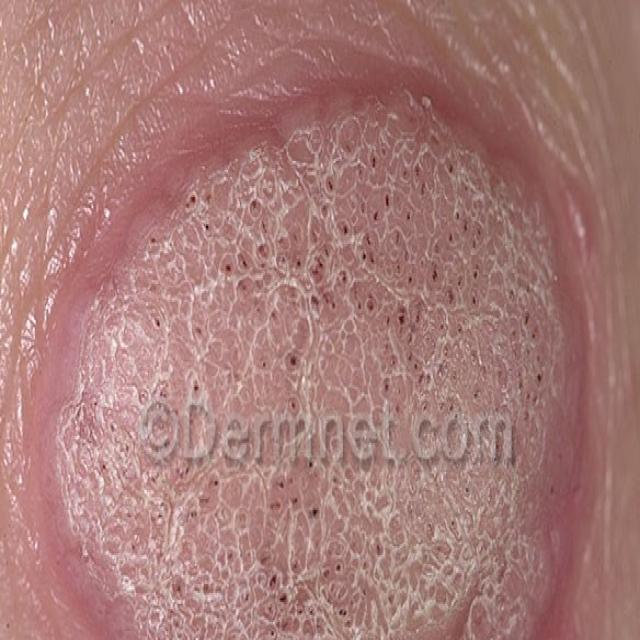Warts: (0, 63, 640, 640)
